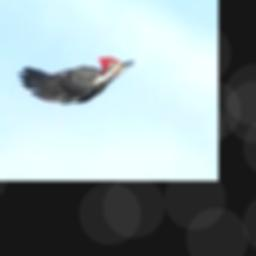Woodpecker: (15, 56, 133, 102)
